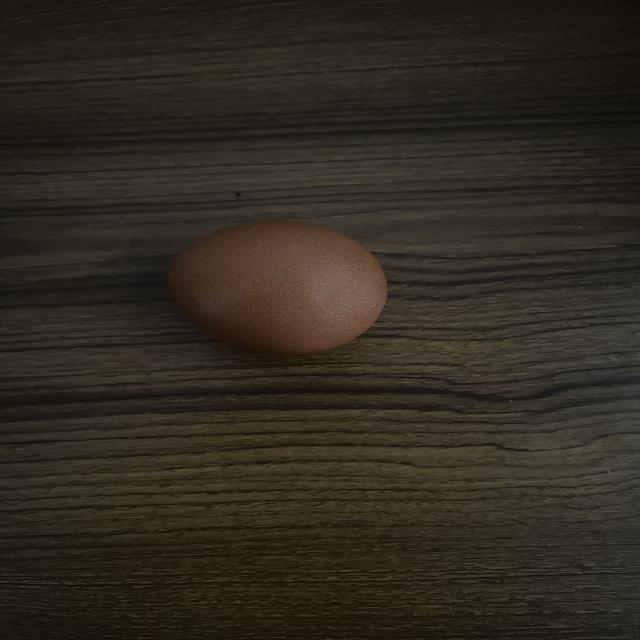Egg: (153, 216, 396, 358)
